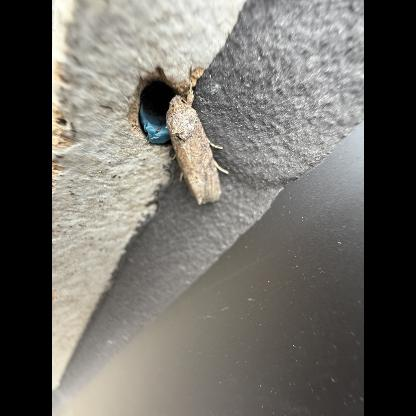Fall Armyworm Moth: (164, 64, 230, 208)
